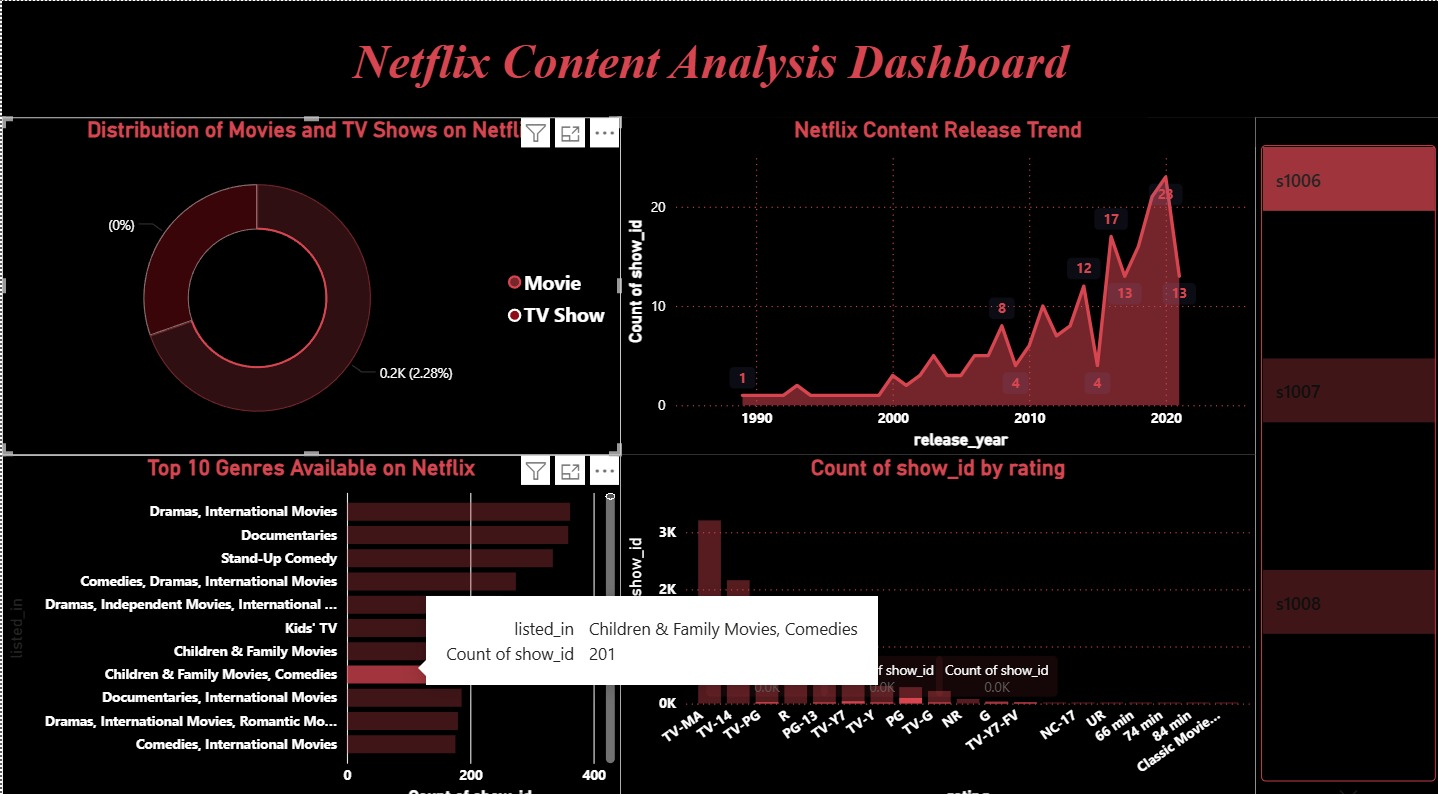

The page's visual inventory and layout, read from the dashboard file:
{"tool":"powerbi","page":{"name":"Page 1","canvas":[1280,720],"ordinal":0},"visuals":[{"type":"donutChart","title":"Distribution of Movies and TV Shows on Netflix","fields":{"Category":["netflix_titles.type"],"Y":["CountNonNull(netflix_titles.show_id)"]},"box":[0,102.9,550,300],"z":0},{"type":"lineChart","title":"Netflix Content Release Trend","fields":{"Y":["CountNonNull(netflix_titles.show_id)"],"Category":["netflix_titles.release_year"]},"box":[550,102.9,564.3,300],"z":1000},{"type":"clusteredBarChart","title":"Top 10 Genres Available on Netflix","fields":{"Y":["CountNonNull(netflix_titles.show_id)"],"Category":["netflix_titles.listed_in"]},"box":[0,402.9,550,317.1],"z":2000},{"type":"clusteredColumnChart","fields":{"Category":["netflix_titles.rating"],"Y":["CountNonNull(netflix_titles.show_id)"]},"box":[550,402.9,564.3,317.1],"z":3000},{"type":"cardVisual","fields":{"Rows":["netflix_titles.show_id"]},"box":[1114.3,102.9,165.7,617.1],"z":4000},{"type":"textbox","box":[0,0,1280,102.9],"z":5000}]}

Visuals, with their boxes in screenshot pixels (x1, y1, x2, y2), scaled from the page's 1280x720 canvas onto the 1438x794 screenshot:
"Distribution of Movies and TV Shows on Netflix" donutChart: [0, 113, 618, 444]
"Netflix Content Release Trend" lineChart: [618, 113, 1252, 444]
"Top 10 Genres Available on Netflix" clusteredBarChart: [0, 444, 618, 793]
clusteredColumnChart - netflix_titles.rating x CountNonNull(netflix_titles.show_id): [618, 444, 1252, 793]
cardVisual - netflix_titles.show_id: [1252, 113, 1437, 793]
textbox: [0, 0, 1437, 113]
